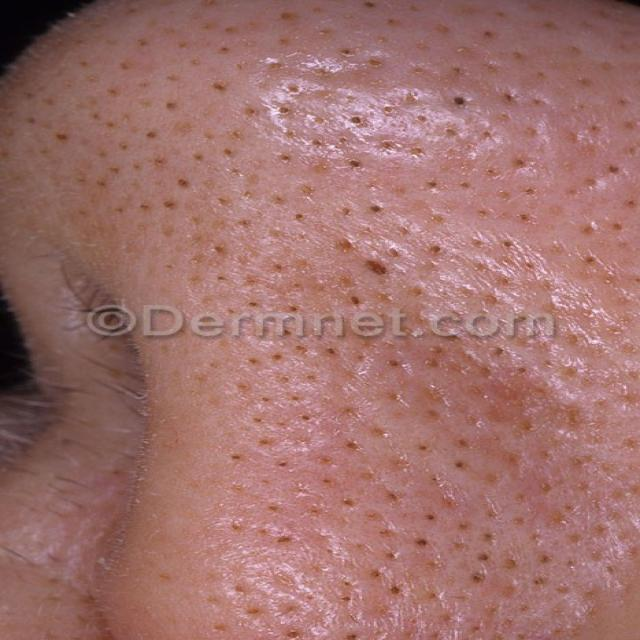acne: (216, 382, 502, 624), (214, 7, 464, 164), (115, 41, 197, 251), (276, 236, 464, 322)
